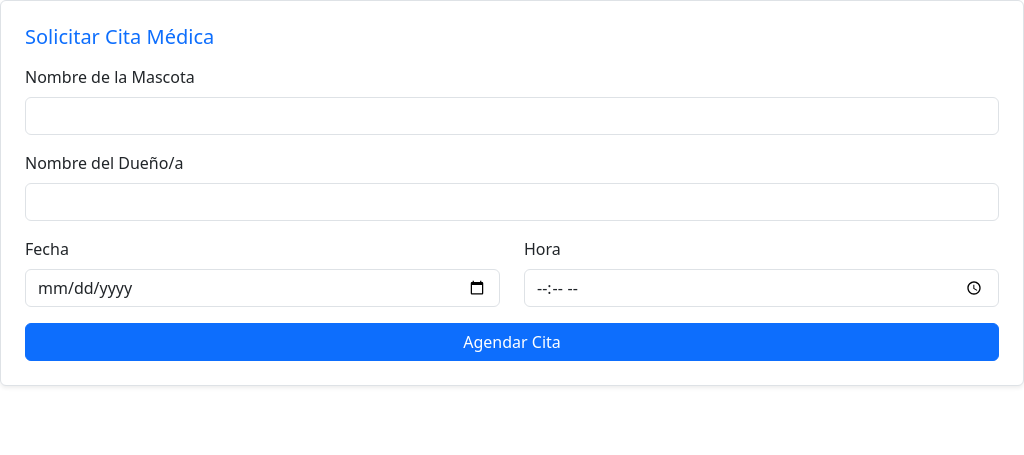
Test case: Formulario de Citas - Validaciones e Interacción (17-24) › 19. Muestra error de campo obligatorio si la mascota se envía vacía
Click the button "Agendar Cita" at {"x": 512, "y": 342}, box [25,323,999,361]
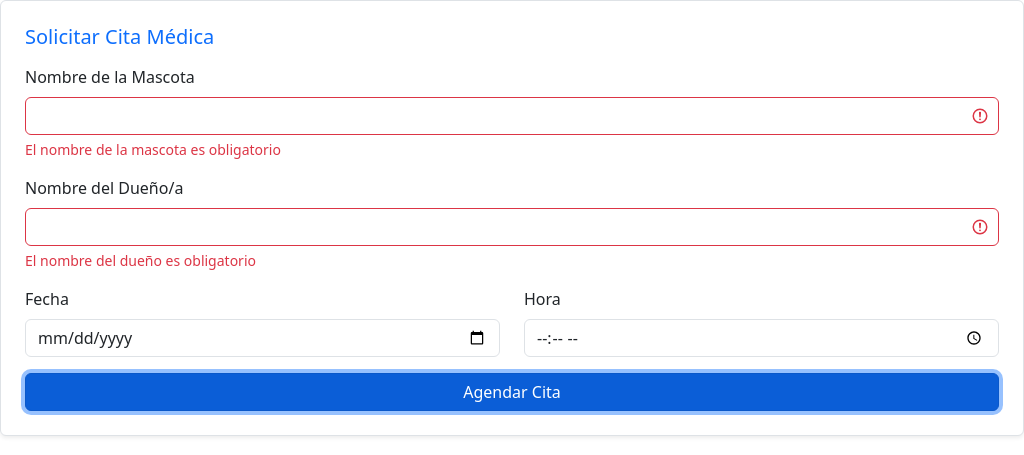
Now the text "El nombre de la mascota es obligatorio" is shown, box [25,140,281,159]
